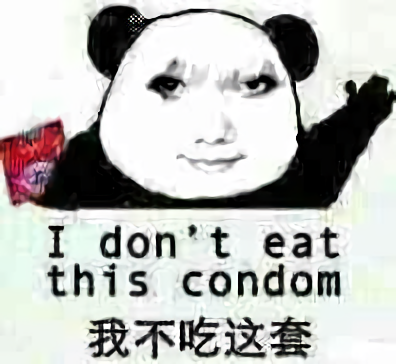dragon: (144, 55, 286, 179)
